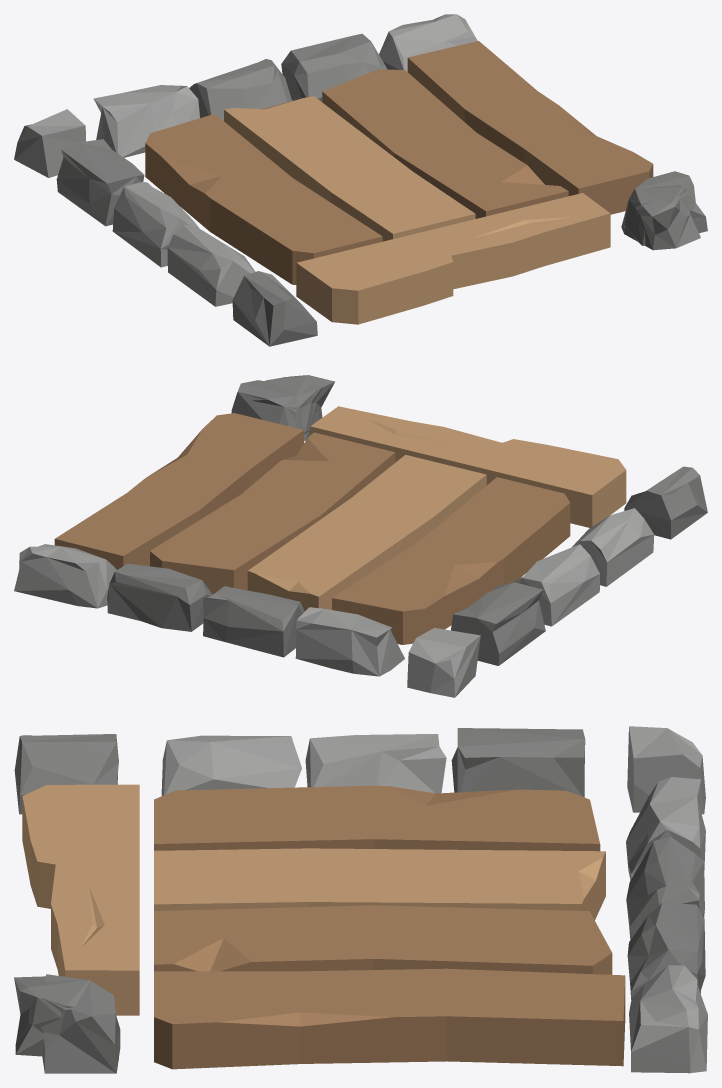
The model's file is rotateRoad_block.glb.
3 renders of one model, top to bottom at view 1: azimuth 30°, elevation 25°; view 2: azimuth 150°, elevation 25°; view 3: azimuth 270°, elevation 25°, orthographic. The views are drawn at different scales.
Parts seen in each view (by area): view 1: GroundTileModular_000; view 2: GroundTileModular_000; view 3: GroundTileModular_000.
Boxes of the visible parts, box(x1,y1,x2,y2) form: GroundTileModular_000: box(14, 14, 707, 346); GroundTileModular_000: box(14, 375, 707, 697); GroundTileModular_000: box(14, 726, 707, 1073).
Size of the model in its own units: 0.9434 by 0.0929 by 0.9462.
Materials: 1 (1 with a texture image).
